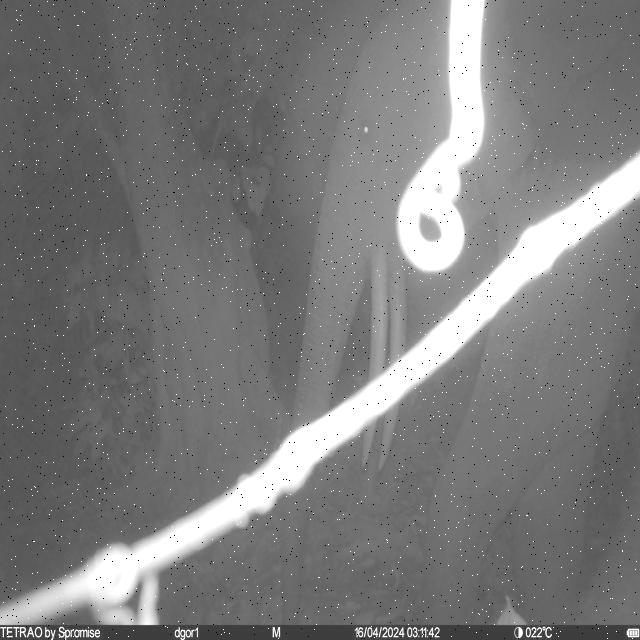ear: (446, 0, 616, 243)
elephant: (282, 0, 640, 631)
tusk: (361, 245, 392, 472), (378, 264, 410, 468)
